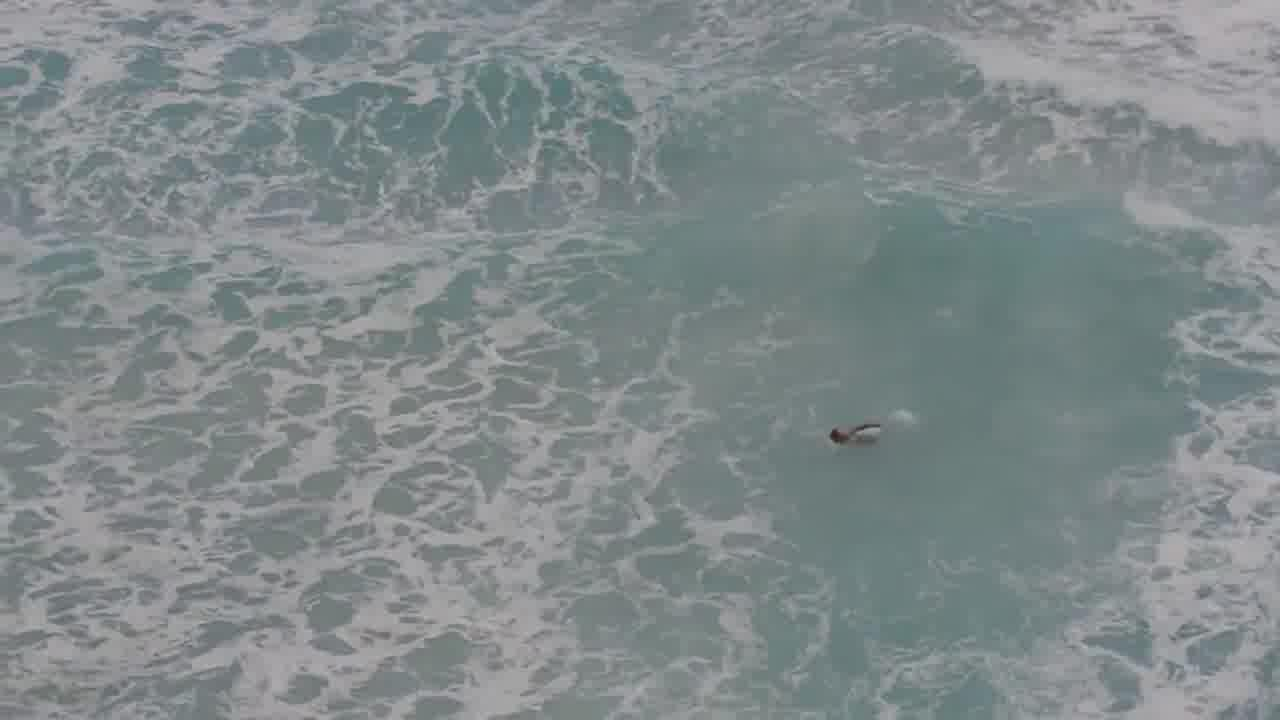human: (823, 410, 887, 450)
